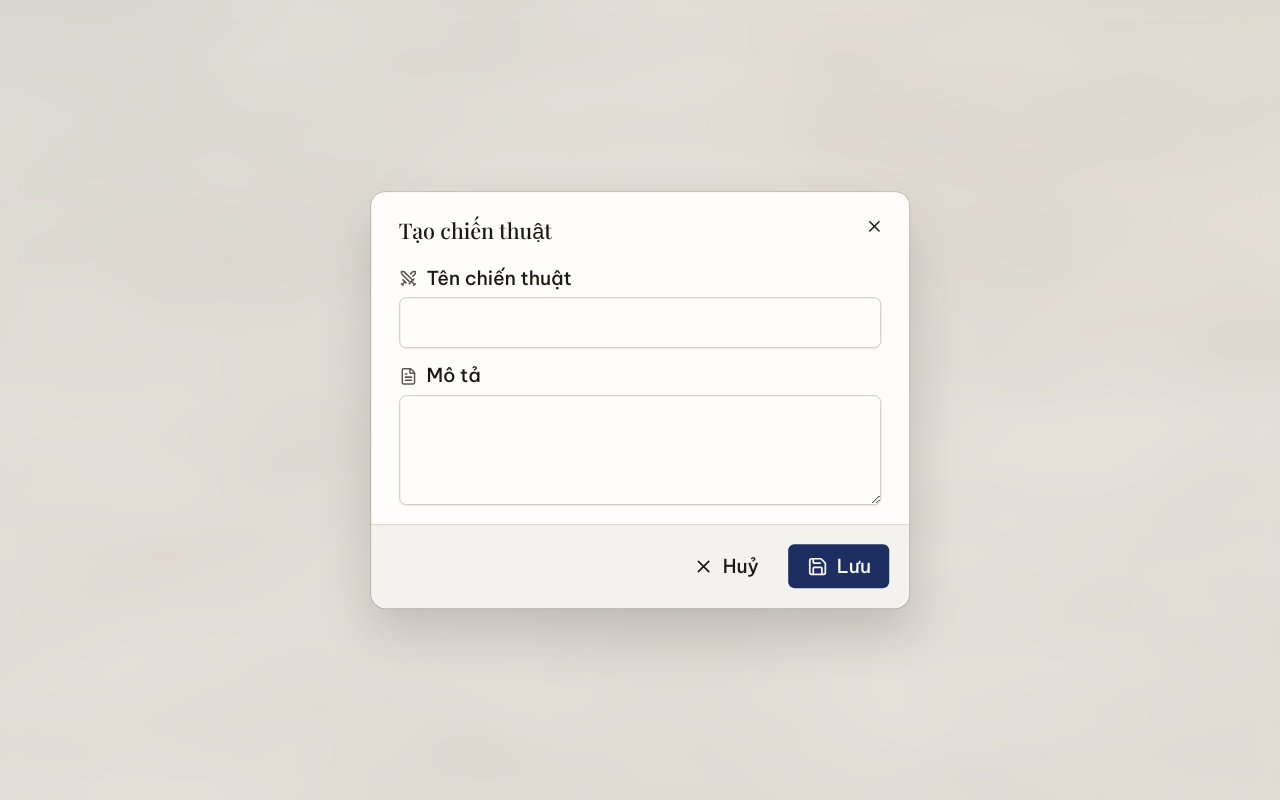
Test case: TacticFormDialog › shows the backend's sentence when the write fails
Type "quá dài" into the field labelled "Tên chiến thuật".
click(640, 323); type("quá dài")  # box [399,297,881,348]
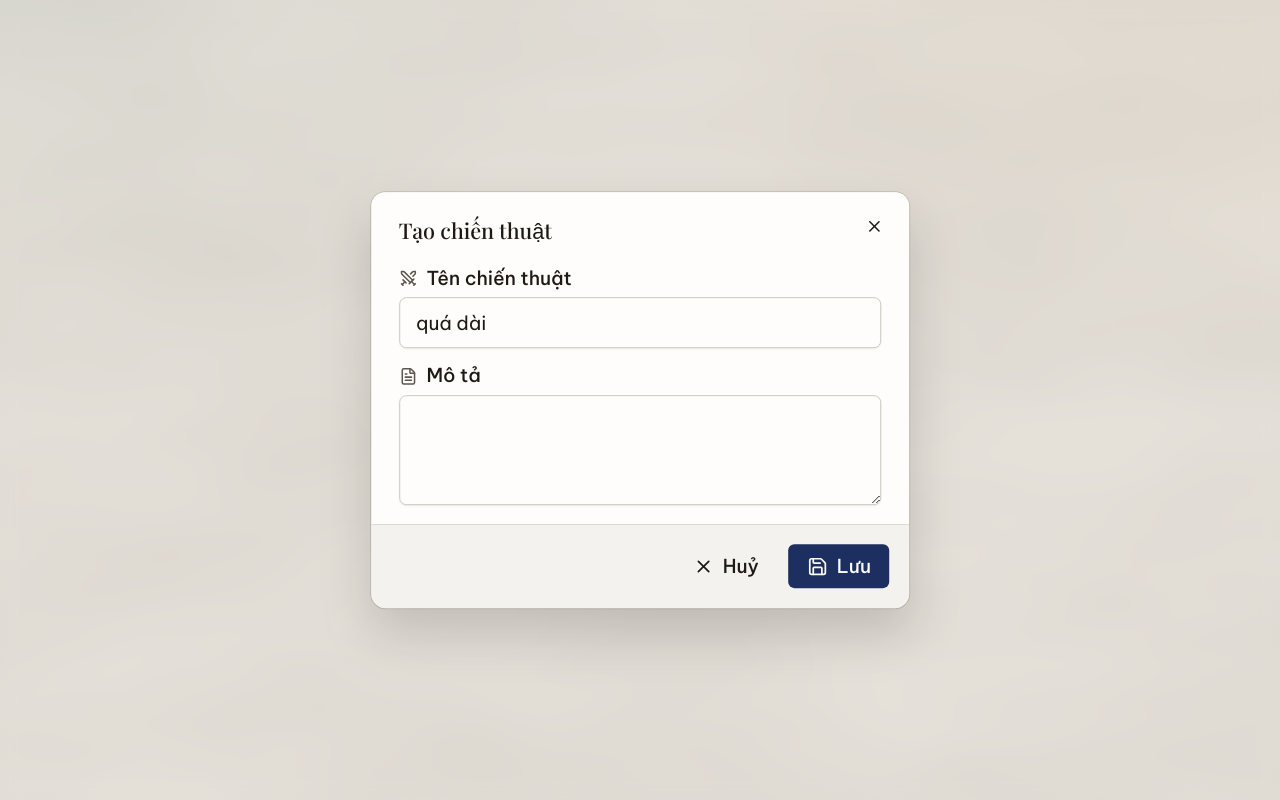
Click the button "Lưu".
click(839, 566)  # box [787,543,890,590]
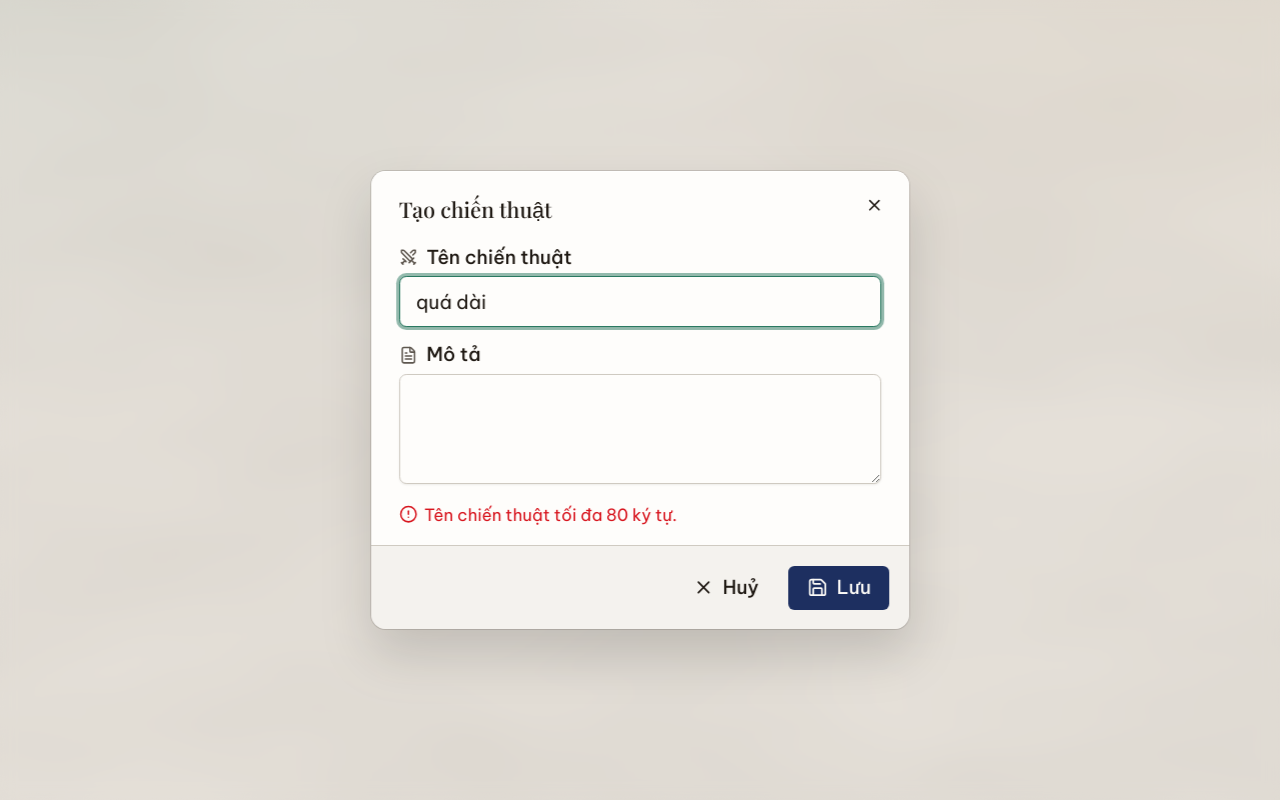
Expected: the text "Tên chiến thuật tối đa 80 ký tự." is shown, [399,504,677,525]
